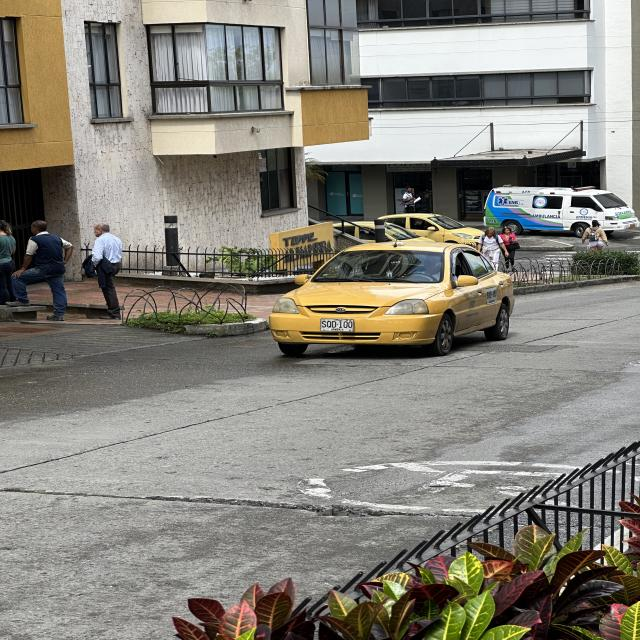number plate: (320, 318, 354, 332)
